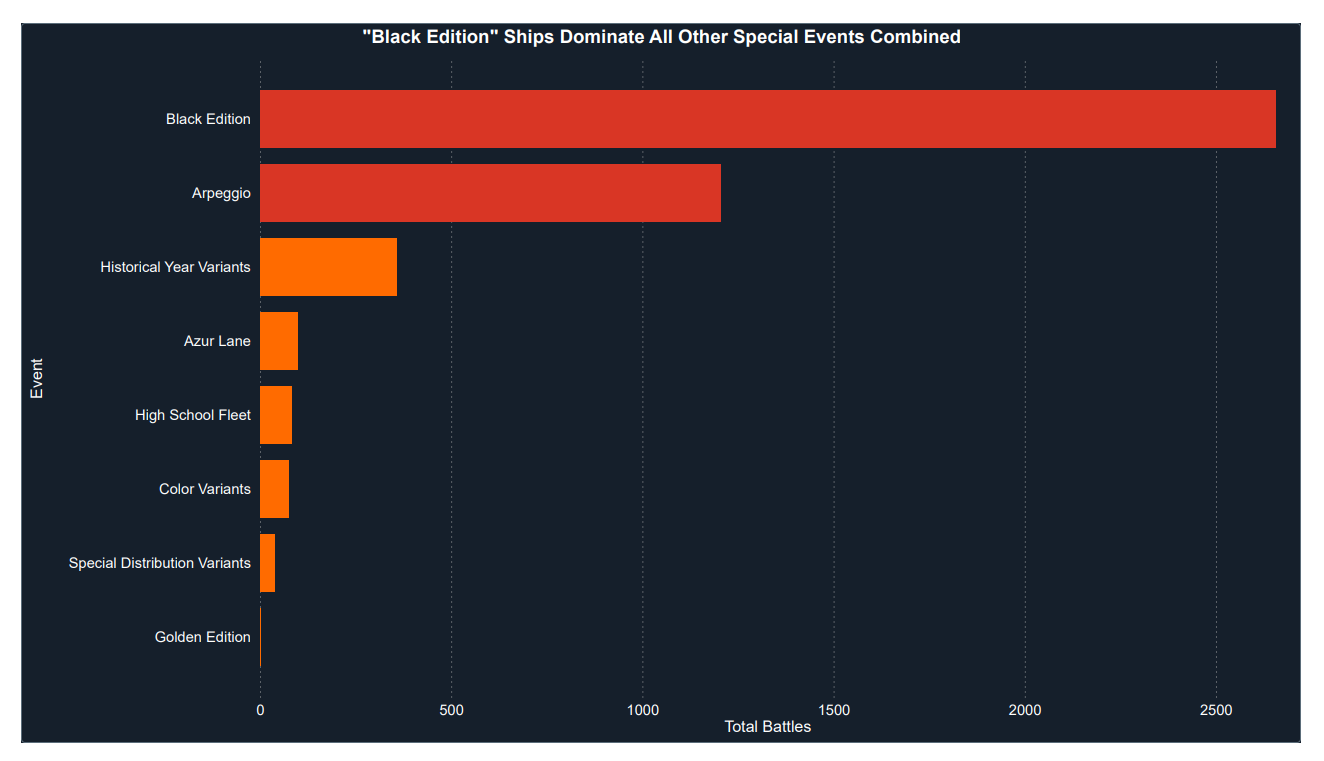

What the dashboard file says about the page in this screenshot:
{"tool":"powerbi","page":{"name":"Page 1","canvas":[1280,720],"ordinal":0},"visuals":[{"type":"barChart","title":"\"Black Edition\" Ships Dominate All Other Special Events Combined","fields":{"Category":["event_engagement_processed.event"],"Y":["Sum(event_engagement_processed.total_event_battles)"]},"box":[0,0,1280,719.8],"z":1001}]}

Visuals, with their boxes in screenshot pixels (x1, y1, x2, y2), scaled from the page's 1280x720 canvas onto the 1324x761 screenshot:
""Black Edition" Ships Dominate All Other Special Events Combined" barChart: {"left": 0, "top": 0, "right": 1323, "bottom": 760}
